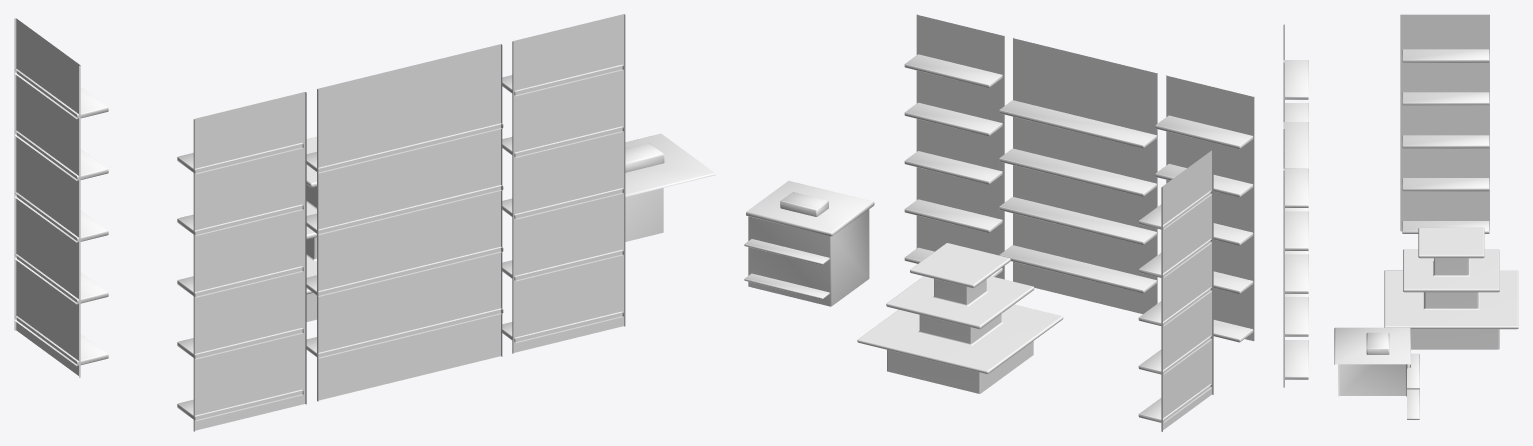
Rendered from deli-int-shelves.glb.
The picture shows the model from 3 angles, left to right: view 1: azimuth 30°, elevation 25°; view 2: azimuth 150°, elevation 25°; view 3: azimuth 270°, elevation 25°; orthographic projection. The views are drawn at different scales.
Parts seen in each view (by area): view 1: shelf-wall-large, shelf-wall-small_03, shelf-wall-small_01, shelf-wall-small_02, till-table, centre-piece, shelf-small_06, shelf-small_01, shelf-small_07, shelf-small_05, shelf-small_04, shelf-large_02 (+3 smaller); view 2: shelf-wall-large, centre-piece, shelf-wall-small_01, shelf-wall-small_02, till-table, shelf-wall-small_03, shelf-large_02, shelf-large_01, shelf-large_03, shelf-large_04, shelf-small_02, shelf-small_03 (+14 smaller); view 3: shelf-wall-small_02, centre-piece, till-table, shelf-small_01, shelf-small_04, shelf-small_05, shelf-small_06, shelf-large_01, shelf-small_02, shelf-small_03, shelf-small_12, shelf-small_13 (+7 smaller).
Part boxes in pixels (box(x1,y1,x2,y2)): shelf-wall-large: box(317, 44, 502, 401); shelf-wall-small_03: box(193, 92, 306, 431); shelf-wall-small_01: box(512, 14, 625, 353); shelf-wall-small_02: box(14, 18, 80, 377); till-table: box(625, 133, 715, 241); centre-piece: box(306, 137, 316, 321); shelf-small_06: box(14, 254, 108, 304); shelf-small_01: box(14, 69, 108, 119); shelf-small_07: box(14, 316, 108, 365); shelf-small_05: box(14, 192, 108, 242); shelf-small_04: box(14, 130, 108, 180); shelf-large_02: box(306, 185, 503, 234); shelf-wall-large: box(1013, 38, 1157, 313); centre-piece: box(857, 243, 1063, 393); shelf-wall-small_01: box(916, 14, 1004, 279); shelf-wall-small_02: box(1161, 150, 1213, 431); till-table: box(746, 181, 874, 306); shelf-wall-small_03: box(1166, 75, 1254, 341); shelf-large_02: box(999, 148, 1156, 196); shelf-large_01: box(999, 100, 1156, 148); shelf-large_03: box(999, 197, 1156, 244); shelf-large_04: box(999, 245, 1156, 293); shelf-small_02: box(1155, 115, 1253, 149); shelf-small_03: box(904, 54, 1002, 87); shelf-wall-small_02: box(1400, 14, 1489, 231); centre-piece: box(1384, 227, 1518, 349); till-table: box(1334, 327, 1410, 396); shelf-small_01: box(1402, 49, 1489, 62); shelf-small_04: box(1402, 92, 1489, 105); shelf-small_05: box(1402, 135, 1489, 148); shelf-small_06: box(1402, 178, 1489, 191); shelf-large_01: box(1283, 122, 1308, 168); shelf-small_02: box(1283, 60, 1308, 99); shelf-small_03: box(1283, 168, 1308, 207); shelf-small_12: box(1285, 211, 1308, 250); shelf-small_13: box(1285, 254, 1308, 293).
Size of the model in its own units: 7.08 by 3.61 by 3.53.
Materials: 1 (1 with a texture image).
